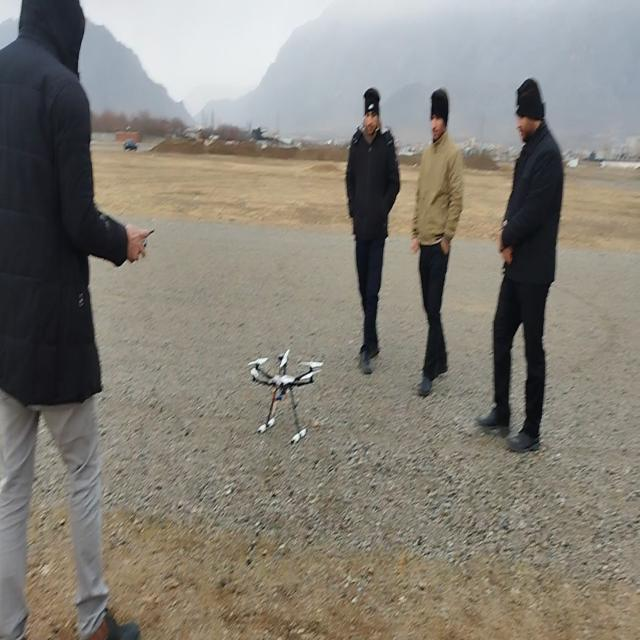drone: (248, 348, 324, 444)
